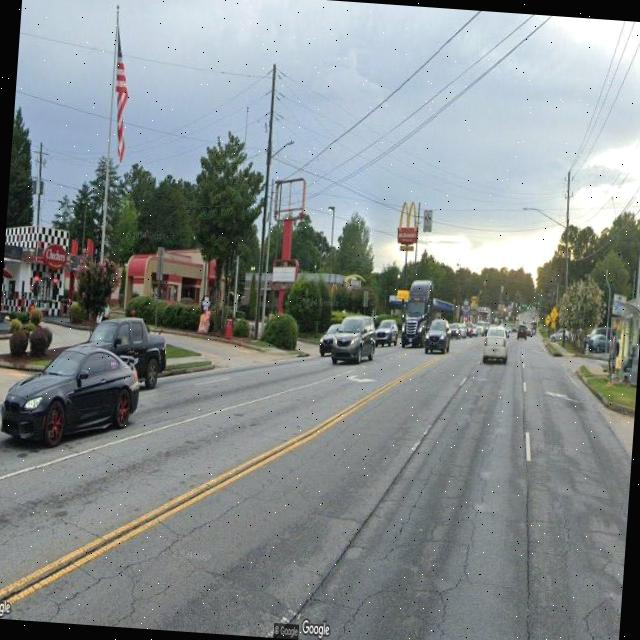seating: (624, 366, 632, 379)
shelter: (605, 296, 640, 386)
trash_can: (629, 356, 638, 386)
